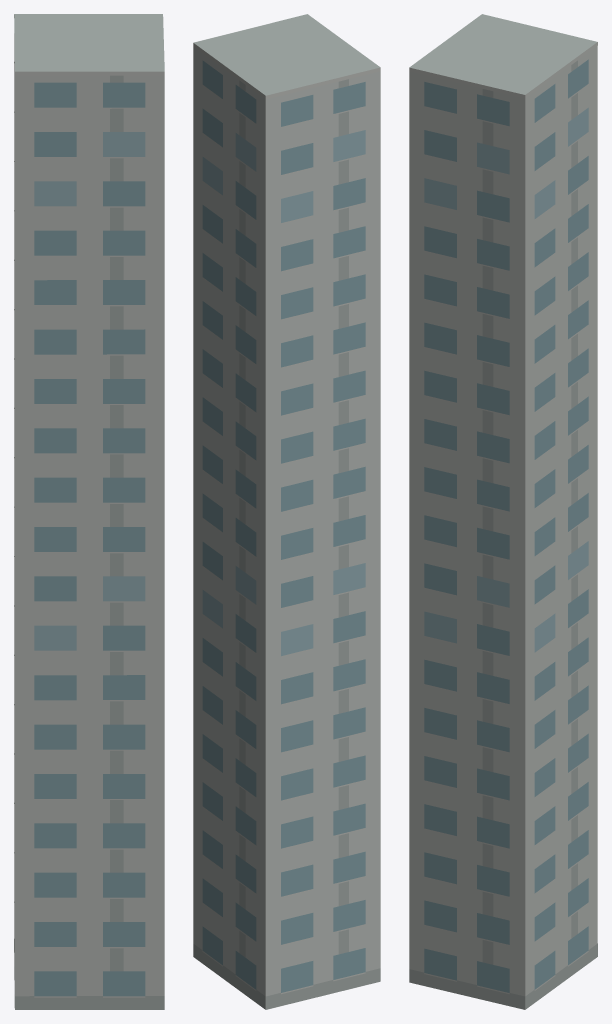
The model's file is survey-upis-32802867.glb.
3 views of the same model, side by side, from view 1: azimuth 30°, elevation 25°; view 2: azimuth 150°, elevation 25°; view 3: azimuth 270°, elevation 25° (orthographic). The views are drawn at different scales.
Parts seen in each view (by area): view 1: survey-upis-32802867.tmp; view 2: survey-upis-32802867.tmp; view 3: survey-upis-32802867.tmp.
Boxes of the visible parts, box(x1,y1,x2,y2) form: survey-upis-32802867.tmp: box(14, 14, 164, 1009); survey-upis-32802867.tmp: box(193, 14, 380, 1009); survey-upis-32802867.tmp: box(409, 14, 597, 1009).
Size of the model in its own units: 11.01 by 57.95 by 10.83.
